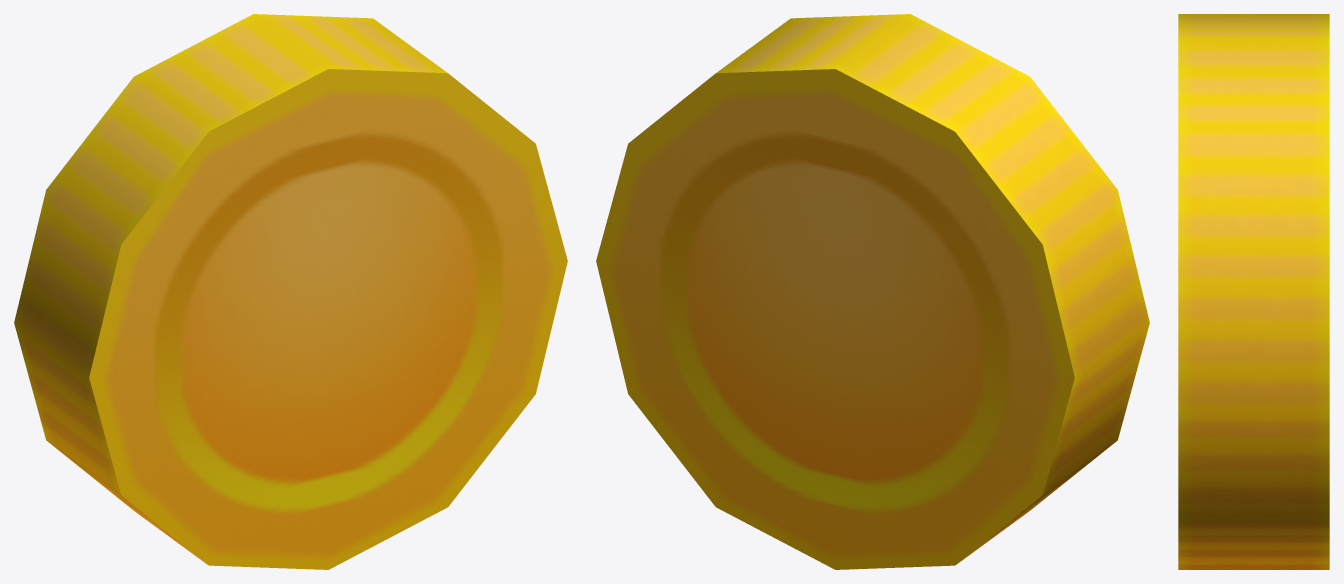
Rendered from Coin.FBX.
3 views of the same model, side by side, from view 1: azimuth 30°, elevation 25°; view 2: azimuth 150°, elevation 25°; view 3: azimuth 270°, elevation 25° (orthographic).
Visible parts, largest first — view 1: Coin; view 2: Coin; view 3: Coin.
Part boxes in pixels (<box>): Coin: <box>14,14,567,569</box>; Coin: <box>596,14,1149,569</box>; Coin: <box>1178,14,1329,569</box>.
Size of the model in its own units: 65.25 by 65.25 by 17.72.
